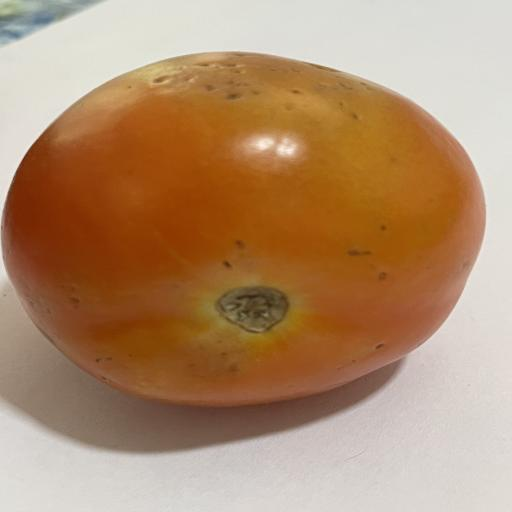unripe: (2, 51, 485, 406)
